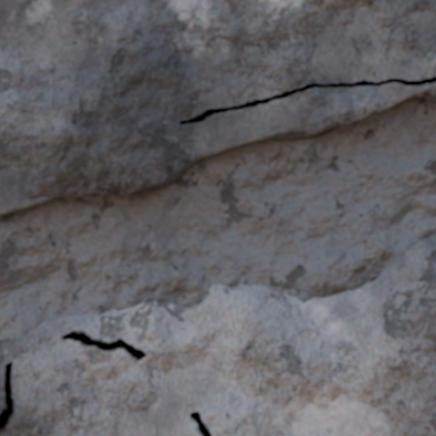brick: (0, 0, 435, 216), (0, 234, 435, 435)
crack: (0, 362, 14, 433)
